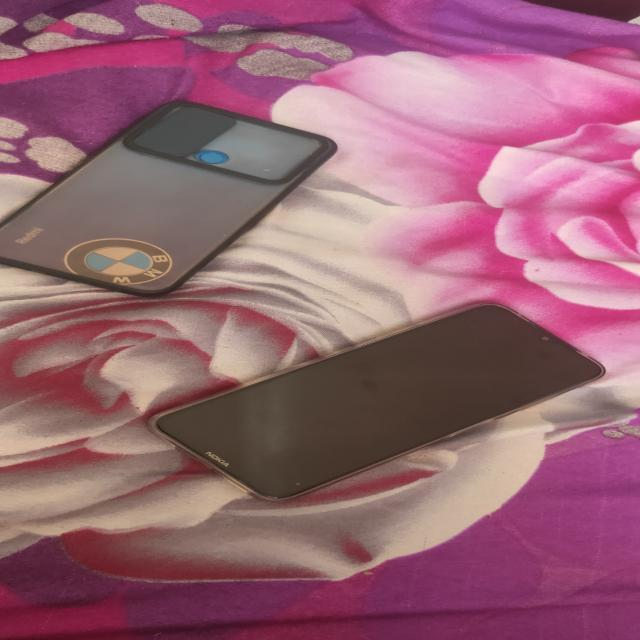Phone: (141, 298, 611, 514), (0, 96, 344, 302)
